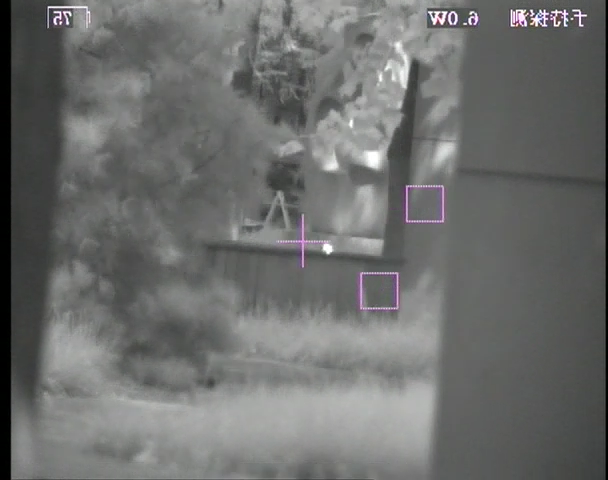my: (321, 242, 334, 255)
